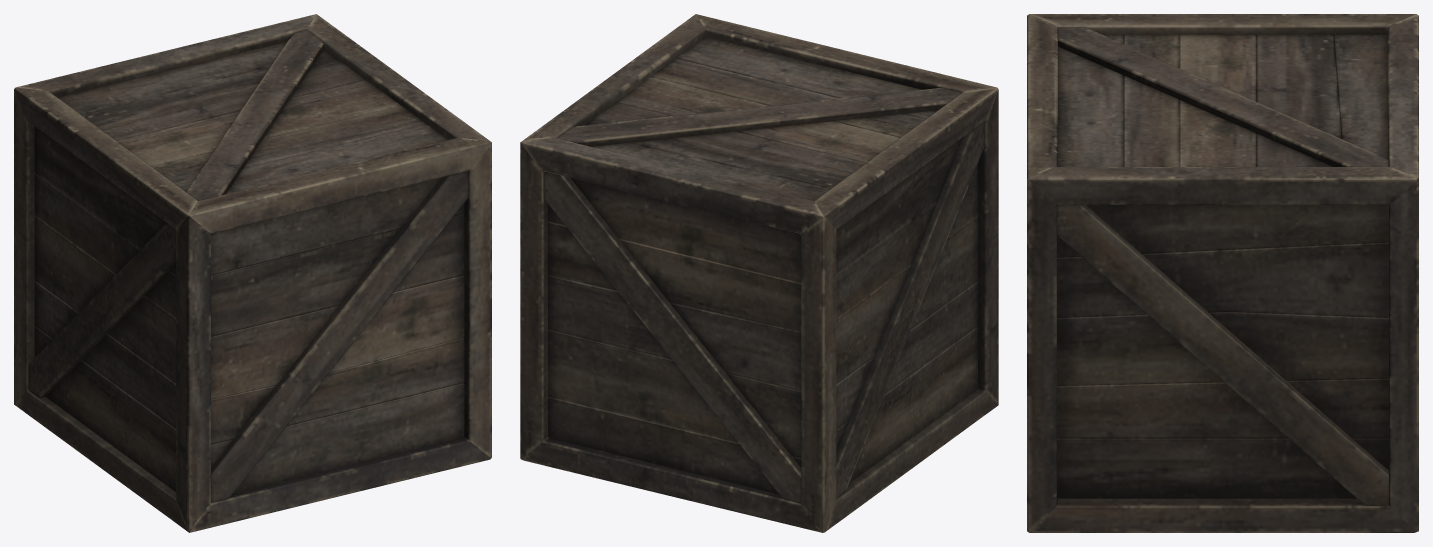
File: WoodenCrateC.fbx
3 renders of one model, left to right at view 1: azimuth 30°, elevation 25°; view 2: azimuth 150°, elevation 25°; view 3: azimuth 270°, elevation 25°, orthographic. The views are drawn at different scales.
Parts seen in each view (by area): view 1: WoodenCrateC; view 2: WoodenCrateC; view 3: WoodenCrateC.
Part boxes in pixels (x1,y1,x2,y2): WoodenCrateC: (14,14,491,532); WoodenCrateC: (520,14,998,532); WoodenCrateC: (1027,14,1418,532).
Size of the model in its own units: 0.7875 by 0.7875 by 0.7875.
1 material, 1 textured.
